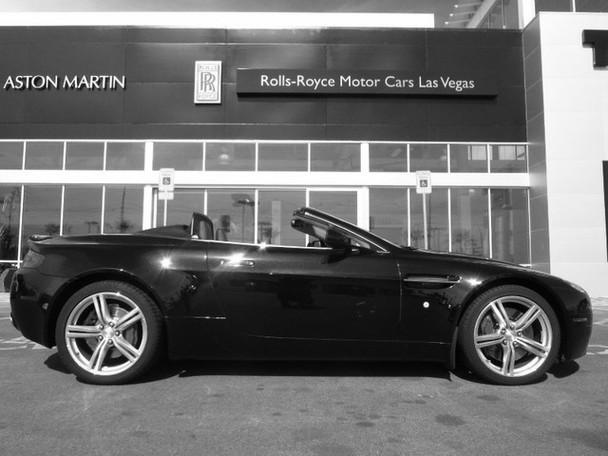car: (11, 208, 596, 386)
